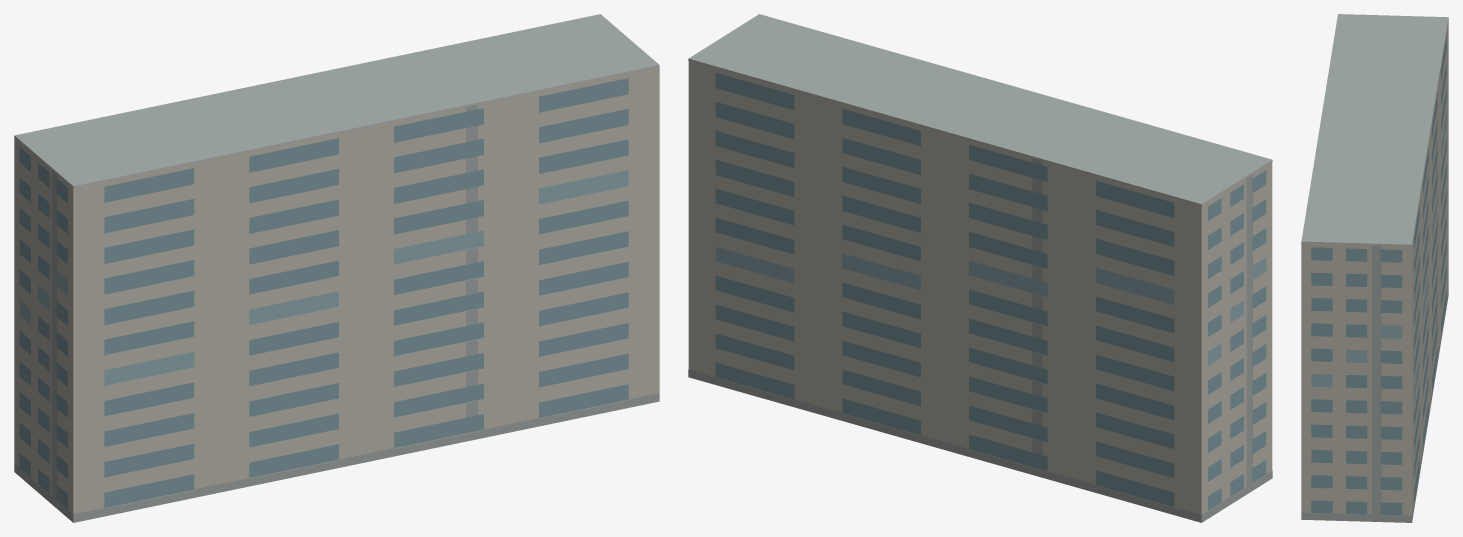
Rendered from residential-122f4d6a-bc85-4ce8-88b9-a6d0f647c724.glb.
The picture shows the model from 3 angles, left to right: view 1: azimuth 30°, elevation 25°; view 2: azimuth 150°, elevation 25°; view 3: azimuth 270°, elevation 25°; orthographic projection. The views are drawn at different scales.
Visible parts, largest first — view 1: residential-122f4d6a-bc85-4ce8-88b9-a6d0f647c724.tmp; view 2: residential-122f4d6a-bc85-4ce8-88b9-a6d0f647c724.tmp; view 3: residential-122f4d6a-bc85-4ce8-88b9-a6d0f647c724.tmp.
Boxes of the visible parts, <box> form: residential-122f4d6a-bc85-4ce8-88b9-a6d0f647c724.tmp: <box>14,14,659,522</box>; residential-122f4d6a-bc85-4ce8-88b9-a6d0f647c724.tmp: <box>688,14,1272,522</box>; residential-122f4d6a-bc85-4ce8-88b9-a6d0f647c724.tmp: <box>1301,14,1448,522</box>.
Size of the model in its own units: 59.66 by 33.55 by 16.1.
